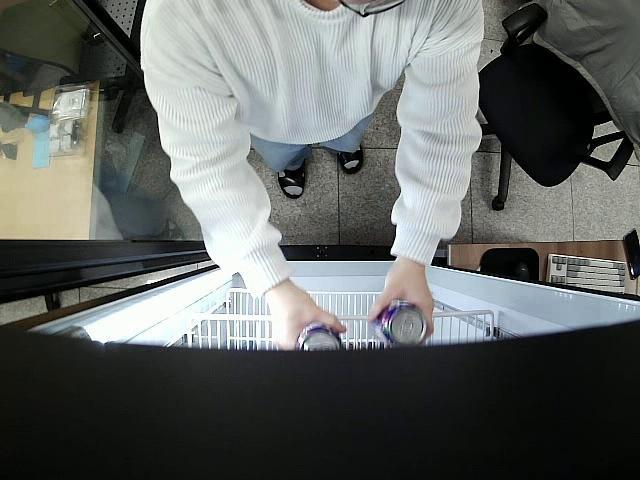14_welchsGrape: (372, 300, 428, 344), (297, 320, 346, 355)
